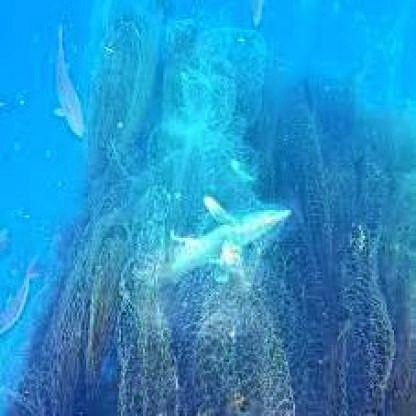net: (47, 163, 416, 416)
